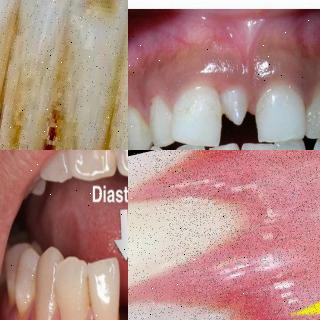Gum Swelling: (218, 152, 320, 256), (225, 256, 320, 319)
calculus: (0, 76, 62, 150), (43, 98, 119, 150)
maligned: (168, 91, 221, 141), (214, 77, 256, 133)
plaque: (150, 96, 174, 144), (306, 88, 320, 136)
stains: (78, 274, 102, 314)
